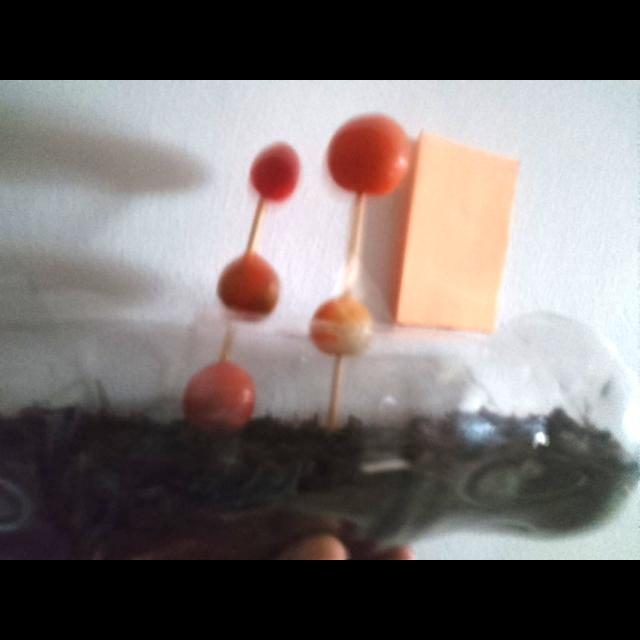card: (393, 133, 518, 331)
fruit_maturation: (310, 294, 372, 356)
fully_grown: (327, 114, 409, 195), (183, 360, 256, 430), (217, 253, 280, 319), (250, 143, 300, 201)
